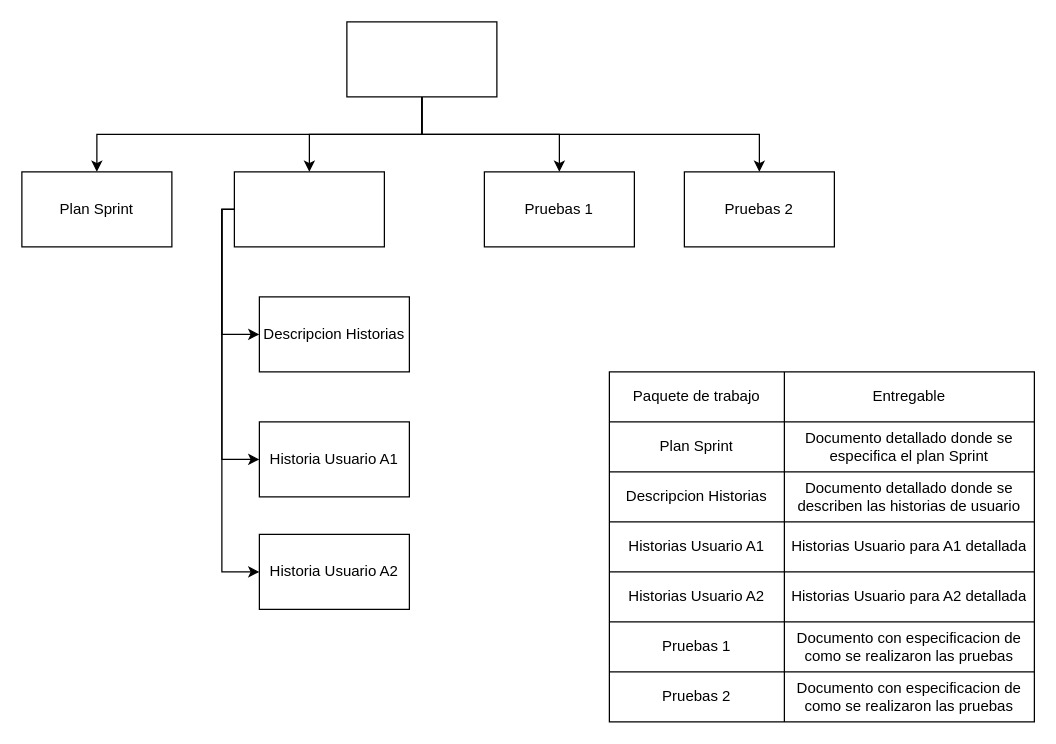
Image size: 1056x744. Some labels were removed from this diagram. Each missing label, with the centre of its shape:
"Historias de usuario" goes at point (308, 209).
"PROYECTO" goes at point (421, 59).
